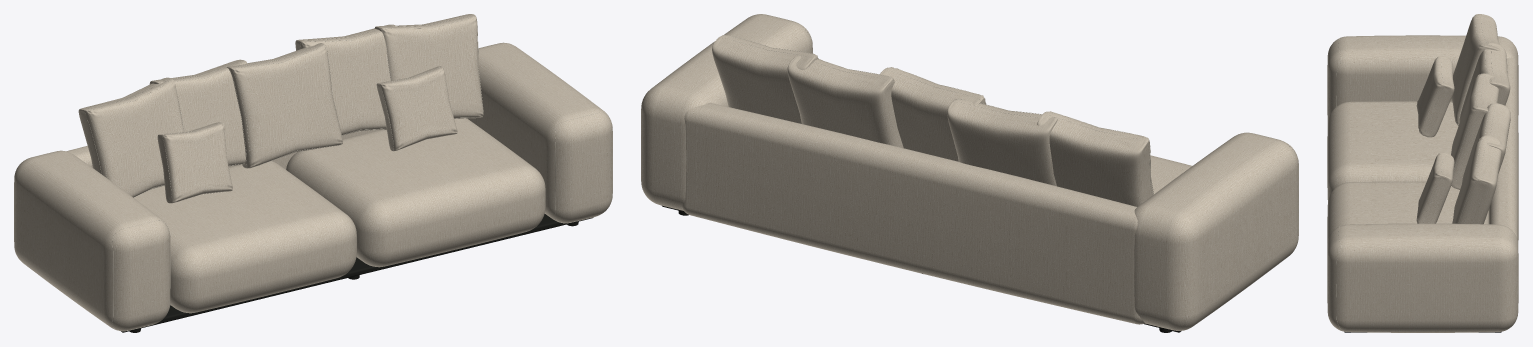
Rendered from straight.glb.
3 views of the same model, side by side, from view 1: azimuth 30°, elevation 25°; view 2: azimuth 150°, elevation 25°; view 3: azimuth 270°, elevation 25° (orthographic). The views are drawn at different scales.
Visible parts, largest first — view 1: fabric (×2), pillows, trim; view 2: fabric (×2); view 3: fabric (×2), pillows.
Boxes of the visible parts, x1,y1,x2,y2 form: fabric (×2): (14, 14, 612, 331); pillows: (157, 66, 457, 203); trim: (121, 214, 593, 332); fabric (×2): (641, 14, 1298, 330); fabric (×2): (1327, 14, 1518, 332); pillows: (1416, 56, 1454, 223).
Size of the model in its own units: 3.2 by 1.02 by 1.2.
Materials: 3 (1 with a texture image).
